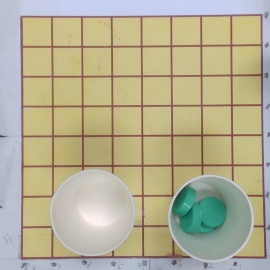cup: (50, 168, 136, 257)
cup_green: (168, 174, 253, 262)
